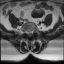CCS_normal: (28, 29, 30, 38)
LFS_normal: (32, 27, 35, 35)
LLS_normal: (30, 29, 32, 37)
RFS_normal: (25, 28, 26, 35)
RLS_normal: (26, 29, 28, 37)
